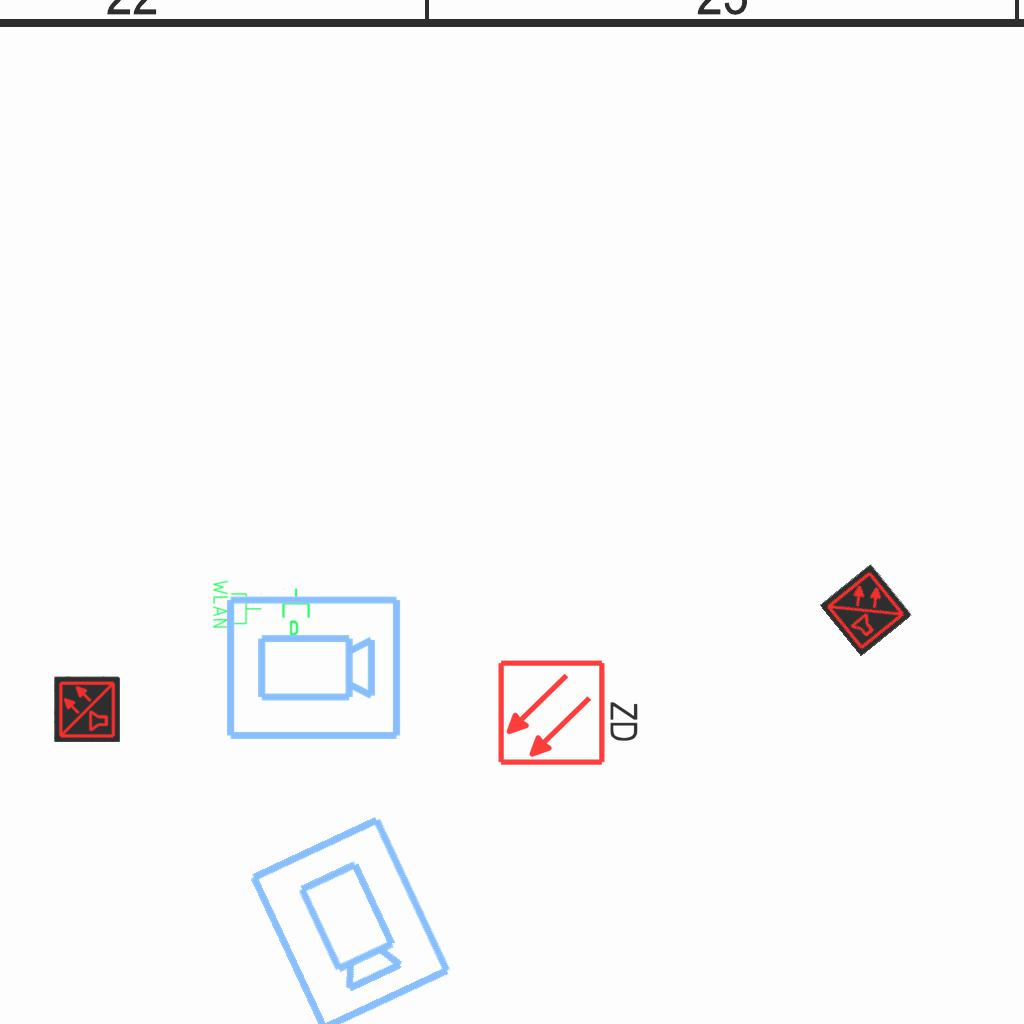Datenanschluss_einfach: (280, 587, 314, 637)
KFO_Kamera_mit_Festobjektiv: (240, 808, 458, 1024), (222, 592, 404, 746)
OKW_Multisensormelder_(Kombination_optischer_Rauch-Kahlenmonoxid_Waerme-Melder): (819, 563, 913, 657), (54, 676, 120, 742)
WLAN: (211, 578, 263, 630)
ZD_Melder_in_Zwischendecke_mit_Revisionsoeffnung_mind_40_x_40_cm: (496, 654, 645, 768)
